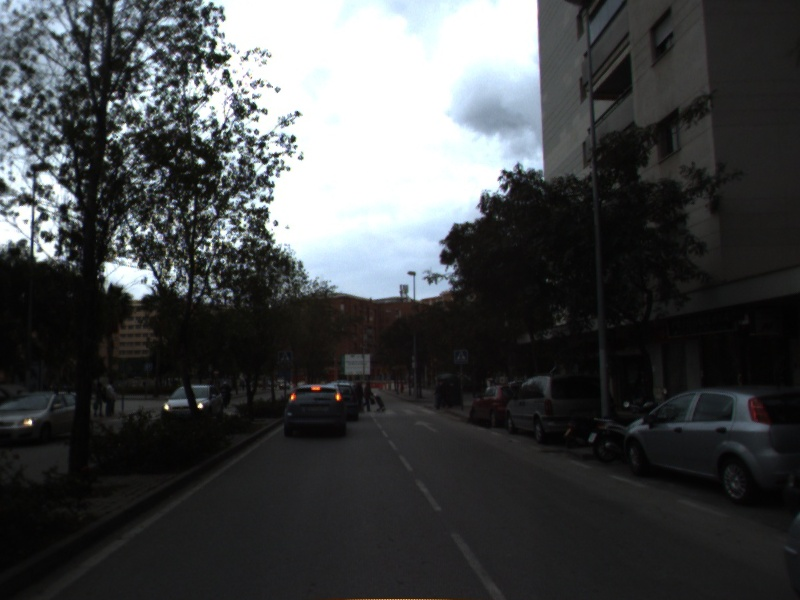STRAIGHT: (412, 418, 442, 434)
